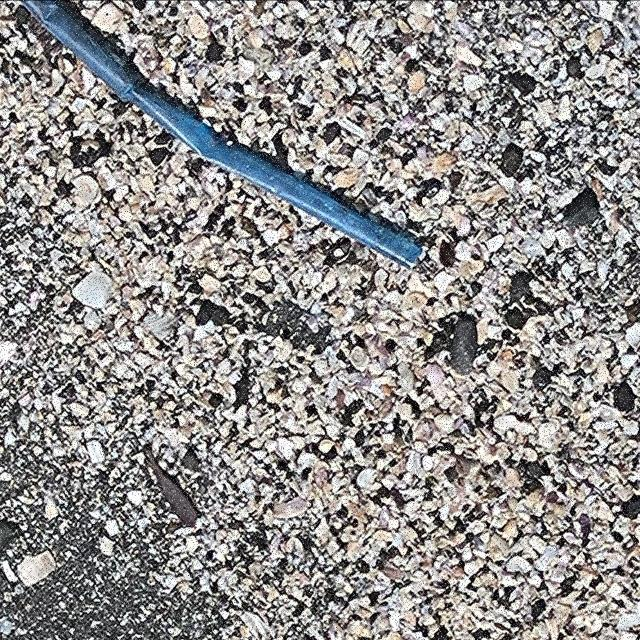plastic_waste: (25, 1, 422, 265)
